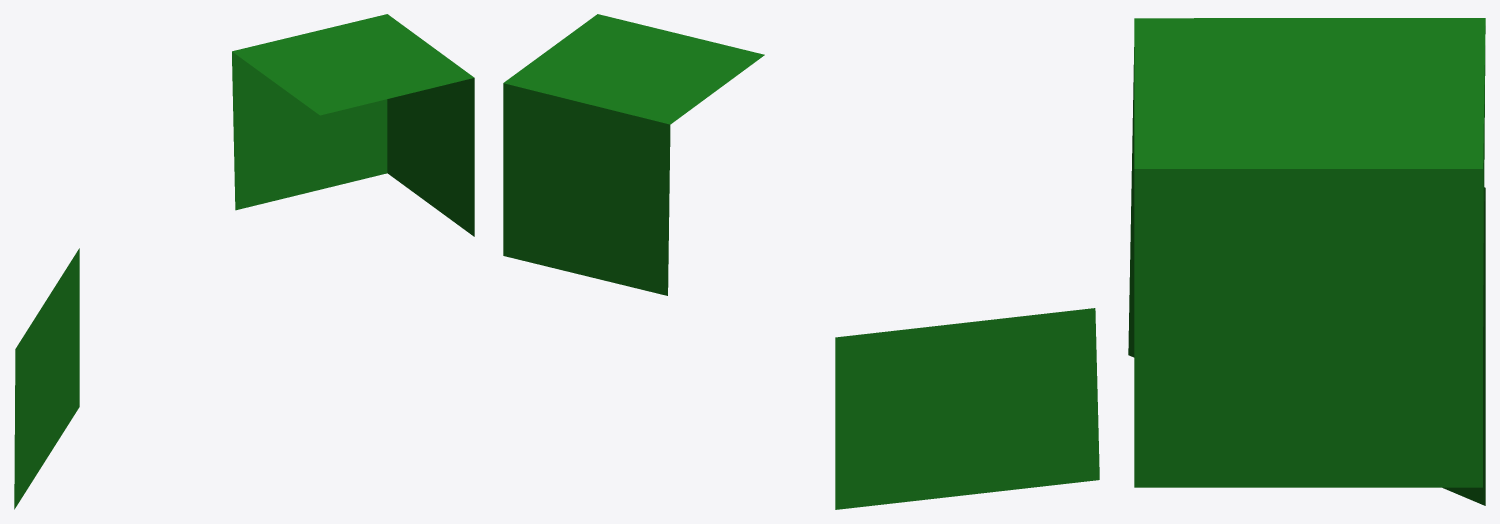
File: LandTilesCollider.fbx
The picture shows the model from 3 angles, left to right: view 1: azimuth 30°, elevation 25°; view 2: azimuth 150°, elevation 25°; view 3: azimuth 270°, elevation 25°; orthographic projection. The views are drawn at different scales.
Visible parts, largest first — view 1: Corner_Colider, Slope_Cliff_Colider; view 2: Slope_Cliff_Colider, Corner_Colider; view 3: Corner_Colider, Slope_Cliff_Colider.
Boxes of the visible parts, box(x1,y1,x2,y2) form: Corner_Colider: box(232, 14, 474, 236); Slope_Cliff_Colider: box(14, 248, 79, 509); Slope_Cliff_Colider: box(835, 308, 1099, 509); Corner_Colider: box(503, 14, 764, 295); Corner_Colider: box(1134, 18, 1485, 487); Slope_Cliff_Colider: box(1128, 47, 1485, 505).
Size of what is drawn, in the model's own units: 304 by 200 by 102.
